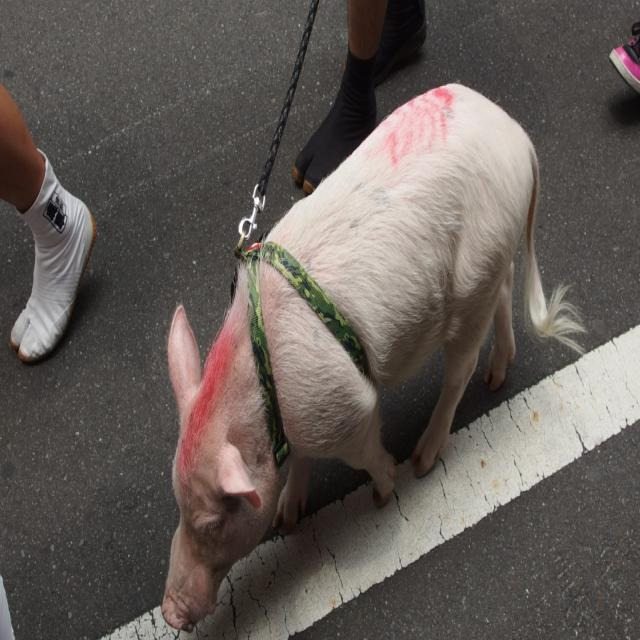pig: (162, 85, 592, 632)
